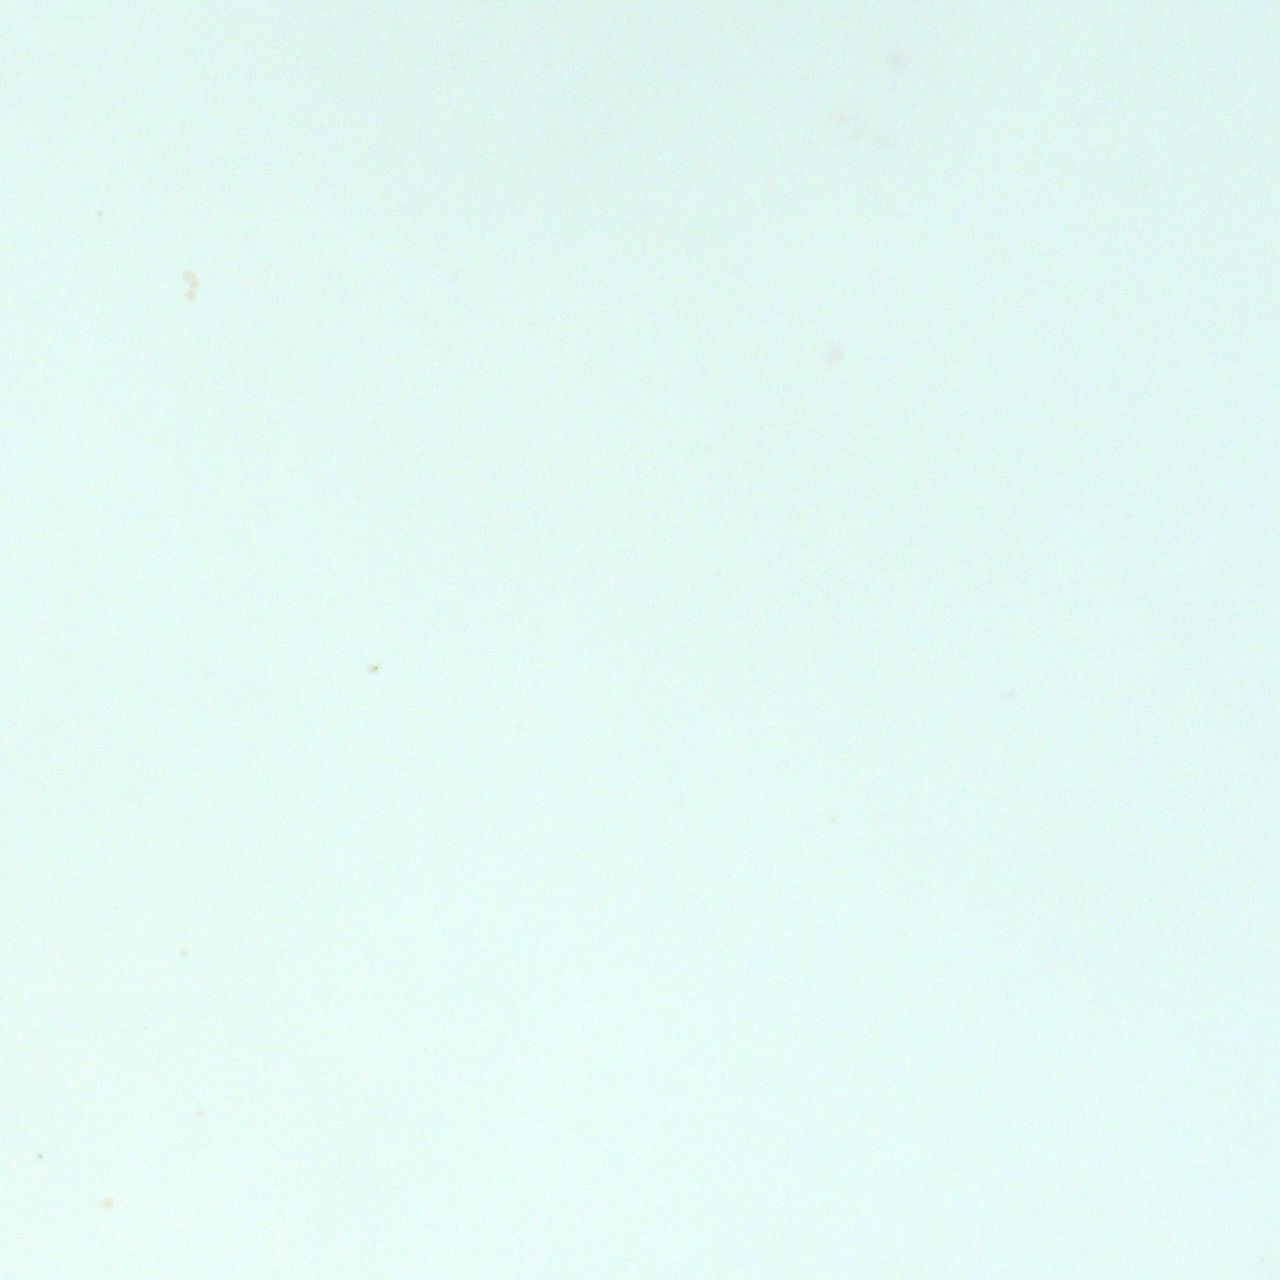dust: (36, 1153, 43, 1164)
